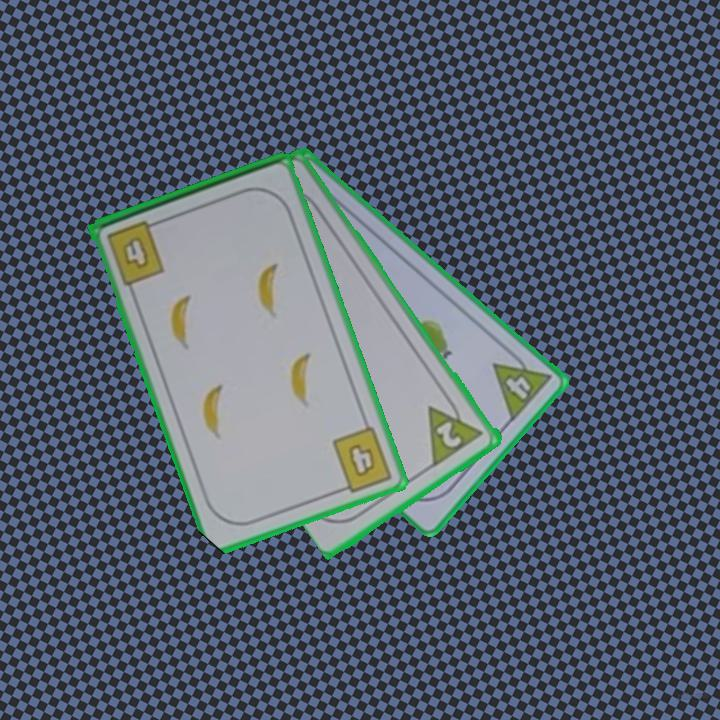2p: (424, 391, 487, 469)
4b: (329, 423, 396, 497), (103, 217, 168, 288)
4p: (489, 344, 555, 424)
